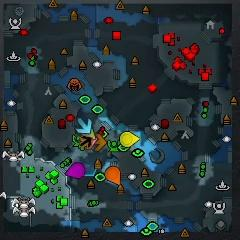p3: (65, 162, 86, 179)
p4: (119, 132, 141, 146)
p5: (106, 166, 121, 185)
x2: (83, 130, 95, 139)
x3: (75, 117, 93, 134)
x5: (94, 134, 106, 152)
x5Clone: (80, 136, 92, 149)
